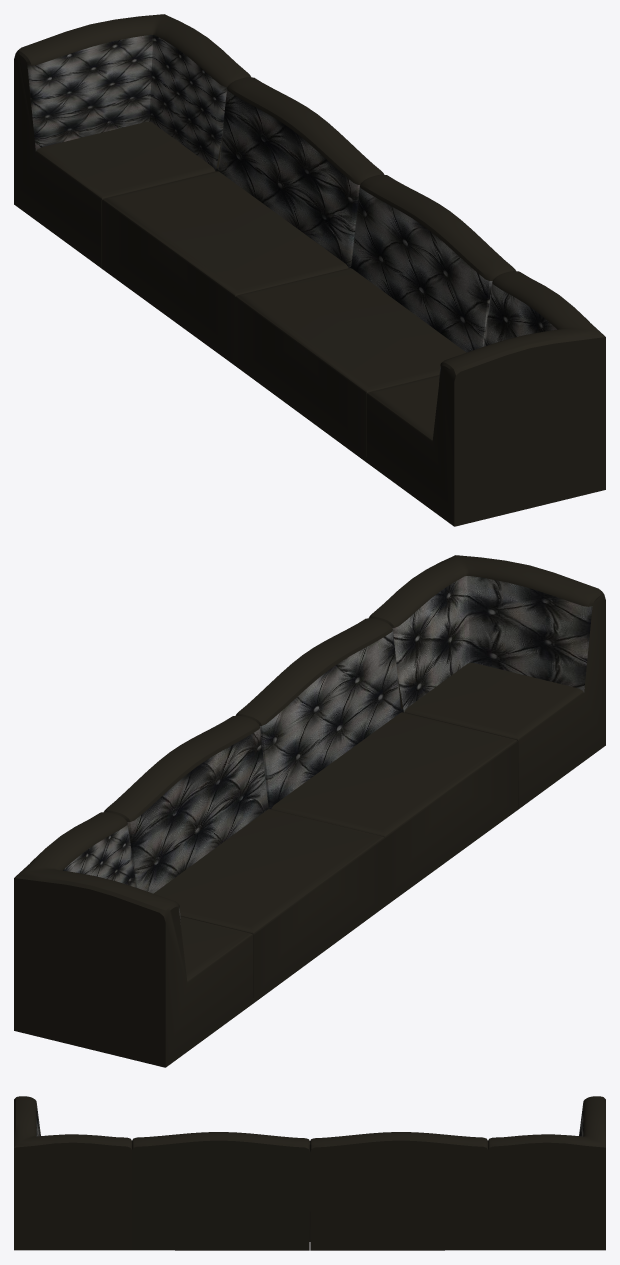
The model's file is sofa.fbx.
The picture shows the model from 3 angles, top to bottom: view 1: azimuth 30°, elevation 25°; view 2: azimuth 150°, elevation 25°; view 3: azimuth 270°, elevation 25°; orthographic projection. The views are drawn at different scales.
Parts seen in each view (by area): view 1: Куб.002; view 2: Куб.002; view 3: Куб.002.
Part boxes in pixels (x1,y1,x2,y2): Куб.002: (14, 14, 605, 526); Куб.002: (14, 555, 605, 1067); Куб.002: (14, 1096, 605, 1250).
Size of the model in its own units: 95.09 by 100 by 476.
2 materials, 1 textured.
